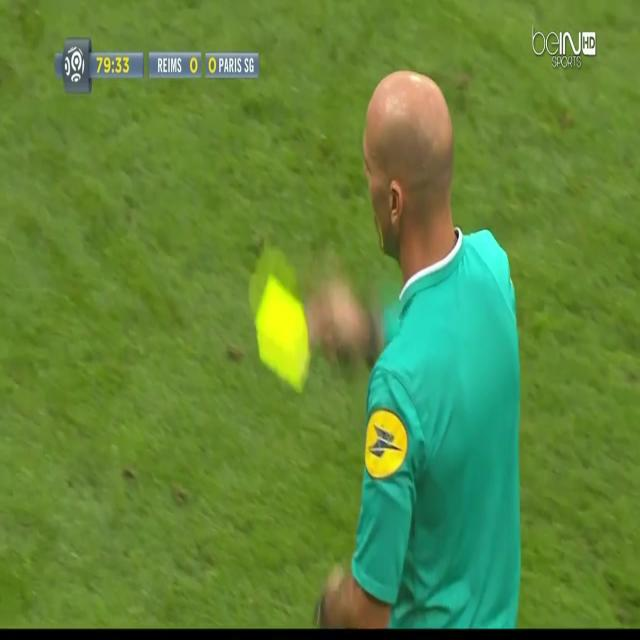Referee: (301, 61, 529, 632)
